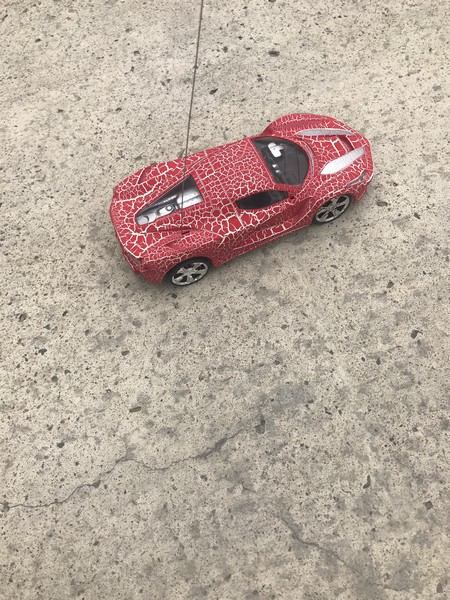RC: (107, 111, 376, 290)
